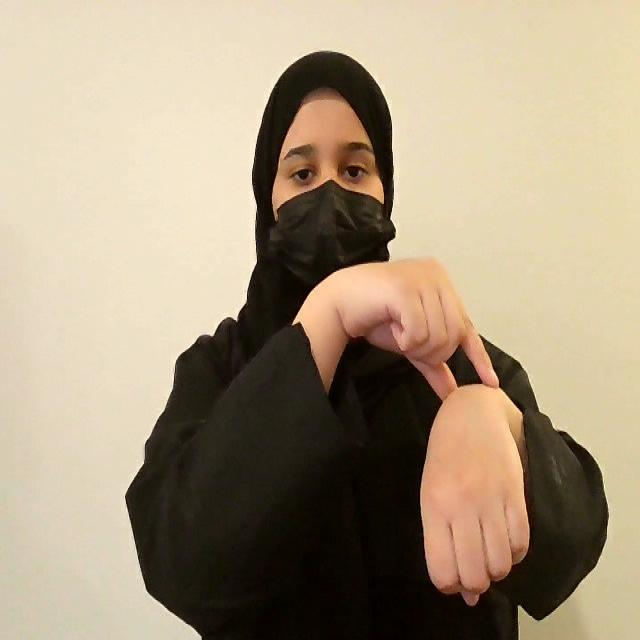appointment: (326, 253, 531, 606)
